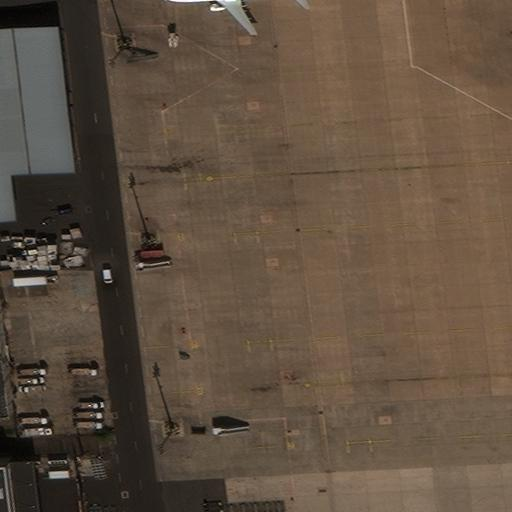Medium Civil Transport: (165, 0, 292, 35)
